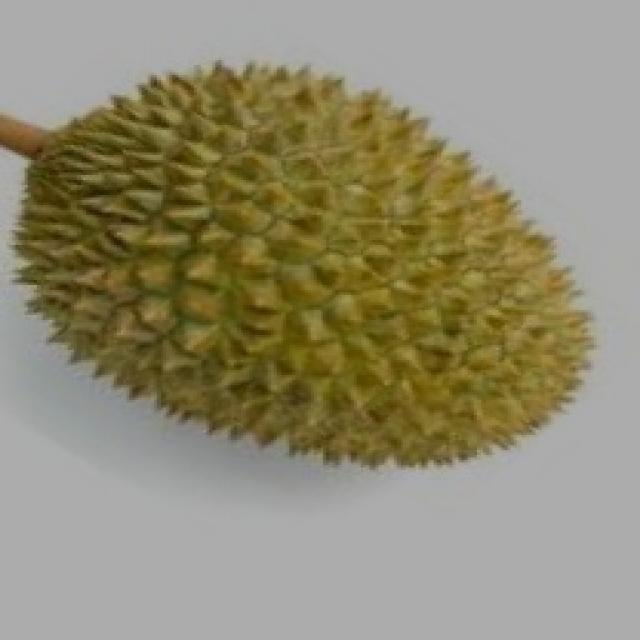fruit: (274, 143, 637, 525), (0, 168, 366, 532)
